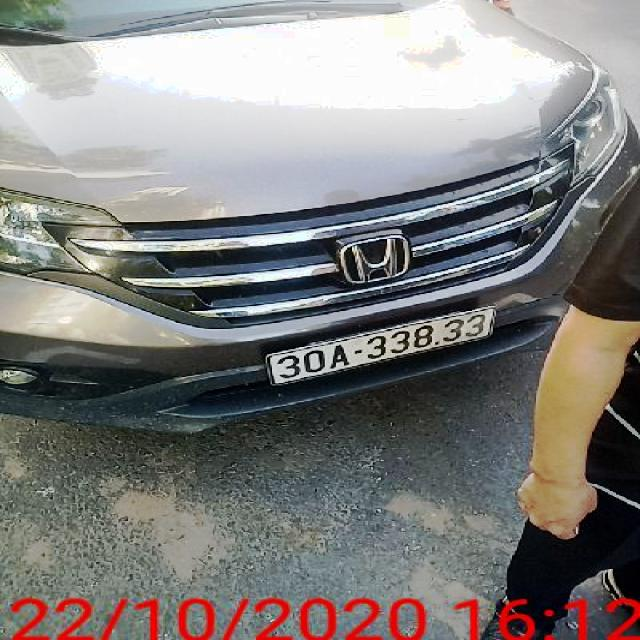license_plate: (269, 305, 495, 387)
